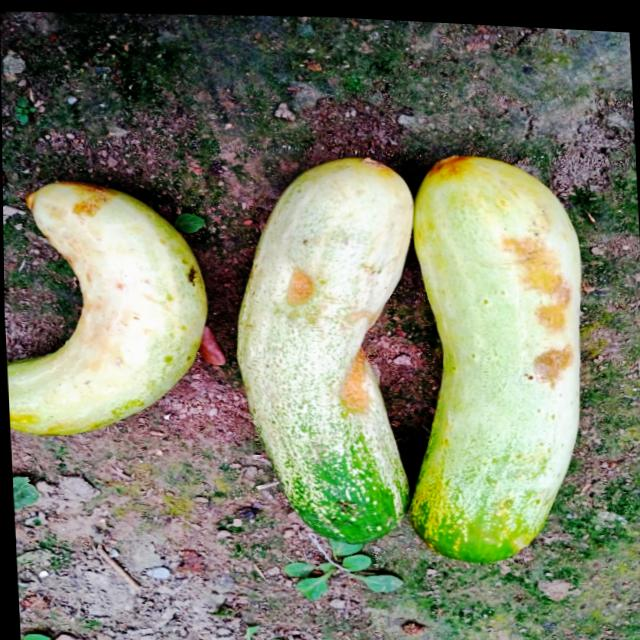Belly-Rot: (499, 220, 576, 332), (331, 295, 387, 423), (520, 332, 582, 390), (280, 258, 321, 312), (69, 185, 114, 225), (184, 262, 198, 285)
